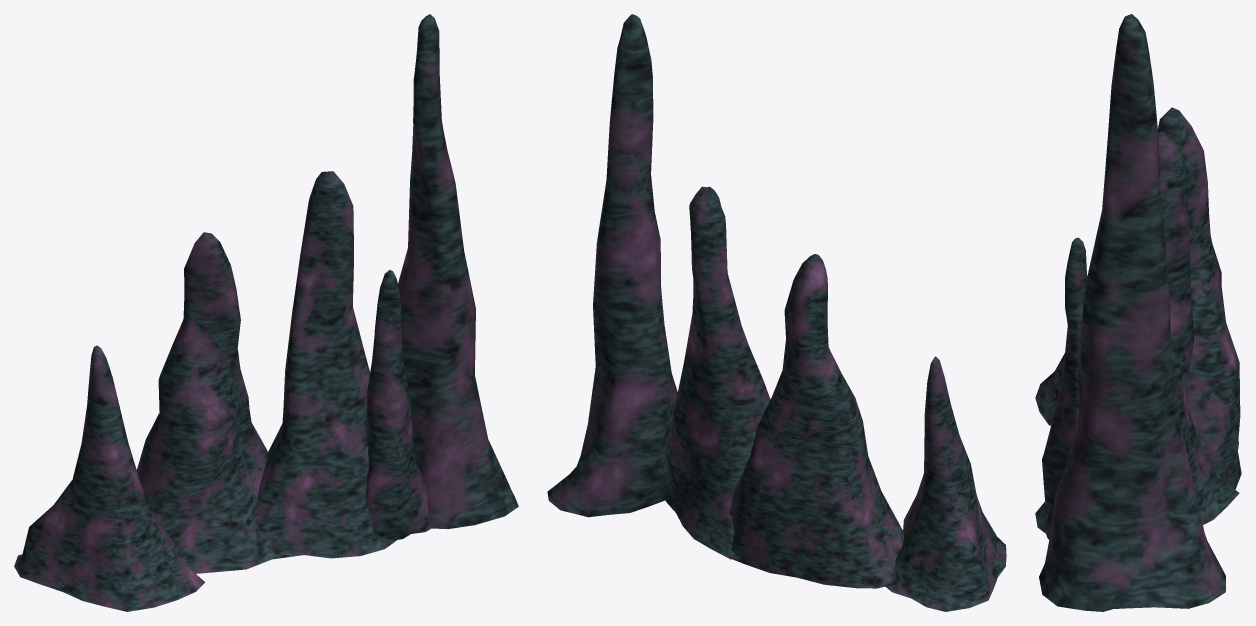
File: CA_174_stalagmites.glb
The picture shows the model from 3 angles, left to right: view 1: azimuth 30°, elevation 25°; view 2: azimuth 150°, elevation 25°; view 3: azimuth 270°, elevation 25°; orthographic projection. The views are drawn at different scales.
Visible parts, largest first — view 1: stalagmite_8, stalagmite_4, stalagmite_3, stalagmite_1, stalagmite_5; view 2: stalagmite_4, stalagmite_3, stalagmite_8, stalagmite_1; view 3: stalagmite_4, stalagmite_3, stalagmite_8, stalagmite_5, stalagmite_1.
Boxes of the visible parts, x1,y1,x2,y2 form: stalagmite_8: (253, 171, 396, 558); stalagmite_4: (398, 14, 518, 528); stalagmite_3: (137, 232, 303, 573); stalagmite_1: (14, 345, 205, 611); stalagmite_5: (365, 270, 431, 540); stalagmite_4: (547, 14, 677, 517); stalagmite_3: (729, 254, 903, 588); stalagmite_8: (665, 186, 770, 559); stalagmite_1: (884, 356, 1006, 611); stalagmite_4: (1039, 14, 1225, 611); stalagmite_3: (1158, 107, 1241, 489); stalagmite_8: (1035, 131, 1239, 533); stalagmite_5: (1042, 237, 1087, 539); stalagmite_1: (1035, 353, 1064, 425).
Size of the model in its own units: 2.21 by 2.28 by 0.7527.
2 materials, 1 textured.
